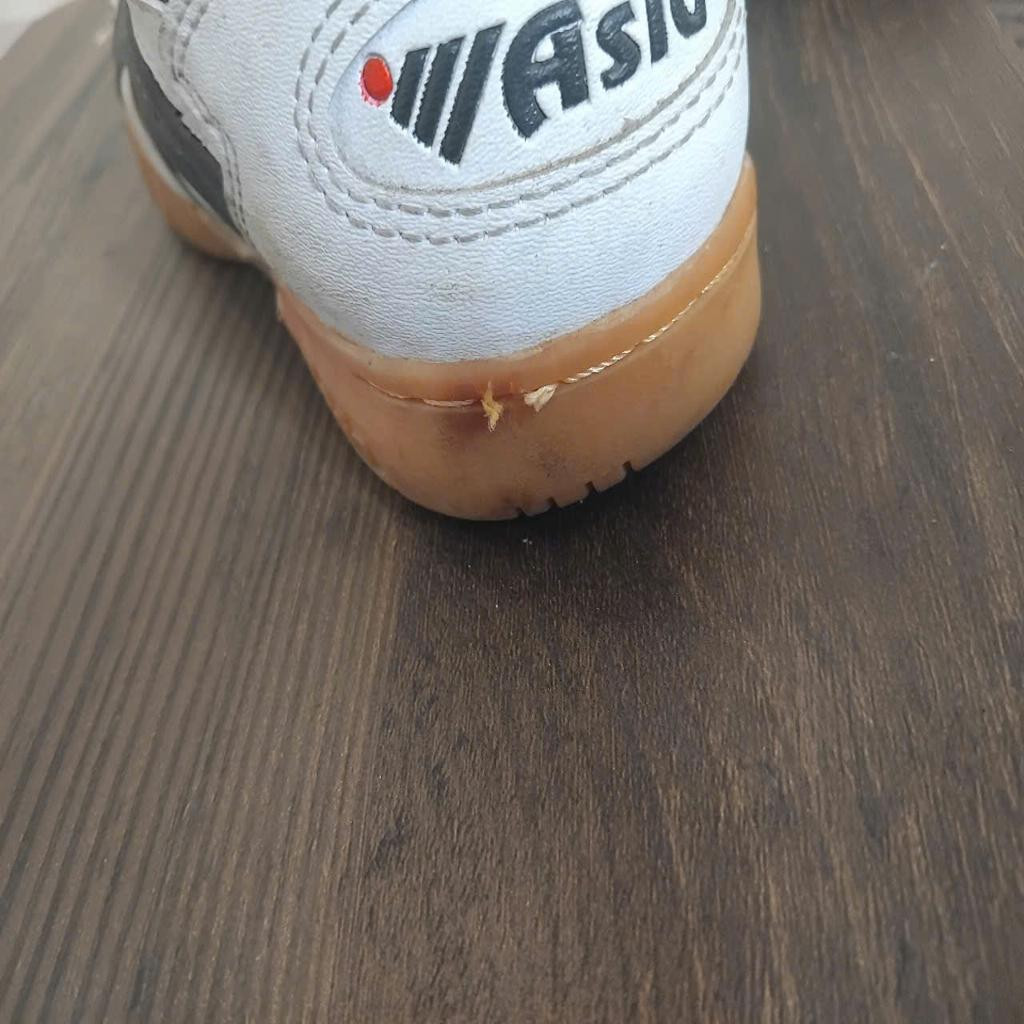broken: (466, 371, 571, 428)
